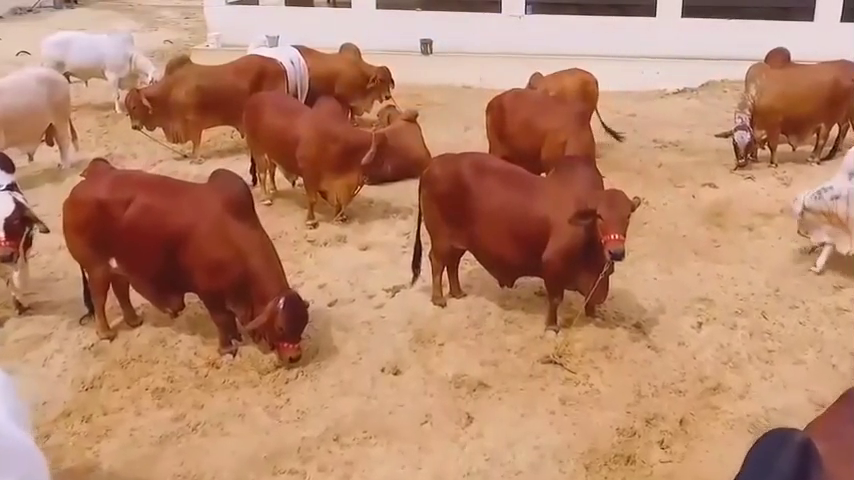bo: (64, 151, 307, 377), (407, 146, 645, 347), (120, 42, 306, 174), (237, 86, 391, 226), (725, 39, 851, 165), (482, 88, 619, 195), (729, 374, 854, 480), (1, 61, 84, 172), (42, 24, 159, 100), (3, 155, 54, 312), (295, 37, 395, 115), (795, 148, 854, 274), (524, 56, 614, 134), (359, 105, 437, 185), (1, 373, 51, 479), (253, 23, 314, 108)
